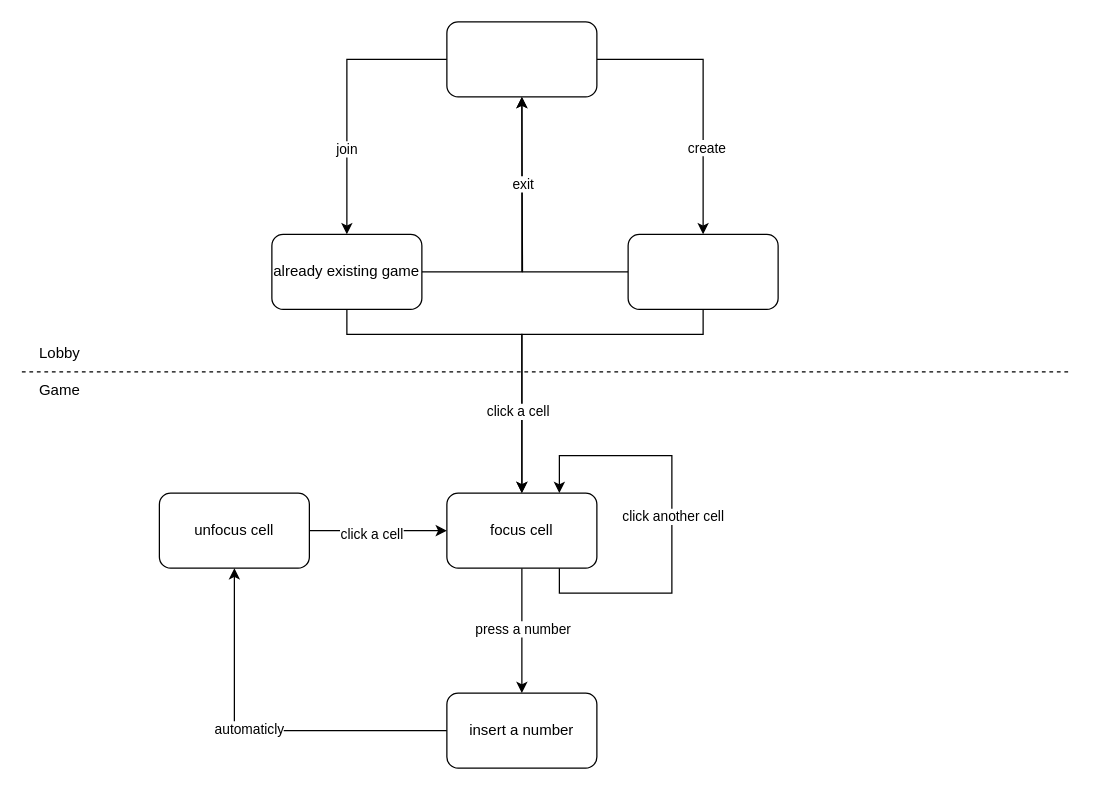
Some shapes in this 1095 by 790 pixel diagram are drawn without their labels. Here are the shapes that lost their labels. From the top down, the centre of each, then its label:
(521,59): game opened
(702,271): new game
